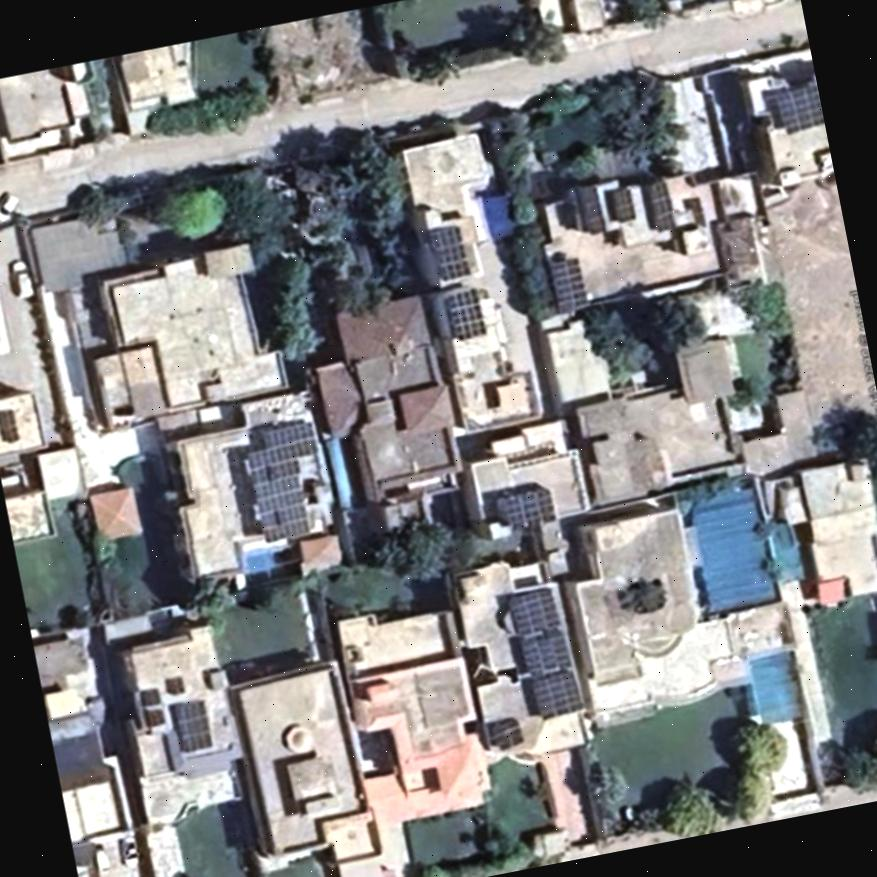Solarpanel: (243, 417, 328, 538), (529, 671, 583, 721), (424, 226, 468, 278), (500, 487, 551, 530), (777, 87, 823, 134), (172, 701, 212, 754), (446, 285, 483, 341), (524, 635, 569, 680), (510, 591, 557, 633), (552, 258, 589, 310), (575, 186, 603, 232), (647, 182, 670, 229), (608, 191, 631, 221)
